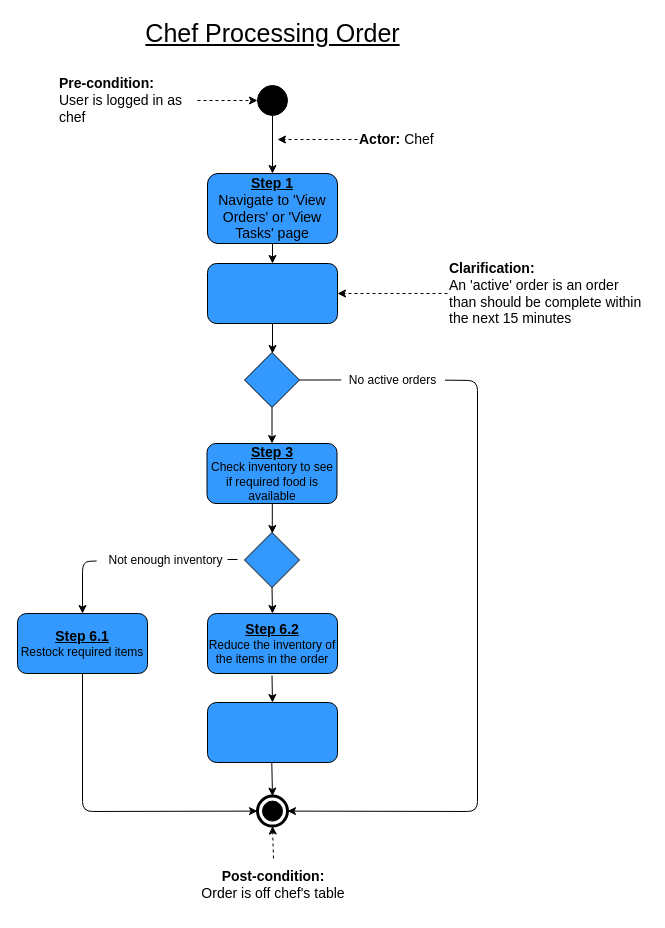
Image size: 665x928. Some labels were removed from this diagram. Each missing label, with the centre of its shape:
Step 2 Select an active order: (x=272, y=293)
Step 7 Move order status to 'Ready for pickup': (x=272, y=732)
